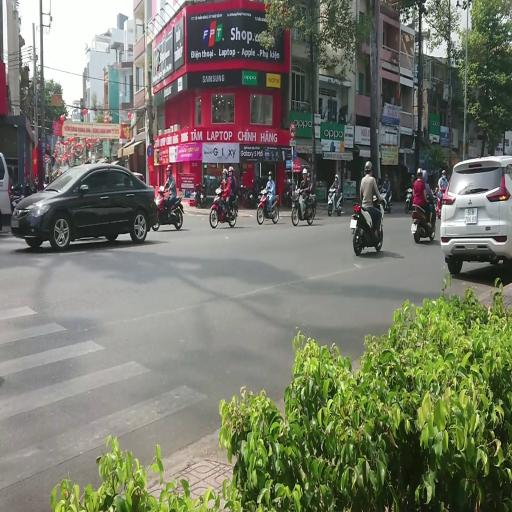bikes: (350, 196, 384, 255), (152, 187, 184, 230), (411, 192, 437, 242), (209, 188, 238, 228), (291, 186, 315, 226), (10, 181, 37, 212), (256, 188, 279, 224), (327, 186, 344, 216), (66, 140, 84, 166), (243, 178, 259, 207), (378, 186, 392, 213), (282, 179, 296, 204), (435, 186, 445, 218), (194, 182, 206, 208), (405, 187, 413, 213), (308, 193, 316, 218)
helmet: (364, 161, 372, 173), (422, 169, 427, 181), (416, 167, 422, 176), (166, 164, 172, 172), (222, 168, 228, 176), (228, 166, 234, 173), (158, 186, 164, 193), (216, 187, 222, 194), (422, 169, 427, 176), (302, 168, 307, 174), (441, 170, 446, 175), (430, 170, 434, 176), (438, 168, 442, 174), (427, 170, 431, 176), (268, 171, 272, 176), (335, 174, 338, 180), (411, 174, 414, 180), (385, 174, 388, 180), (307, 172, 310, 178), (252, 178, 254, 184), (431, 168, 434, 172)
